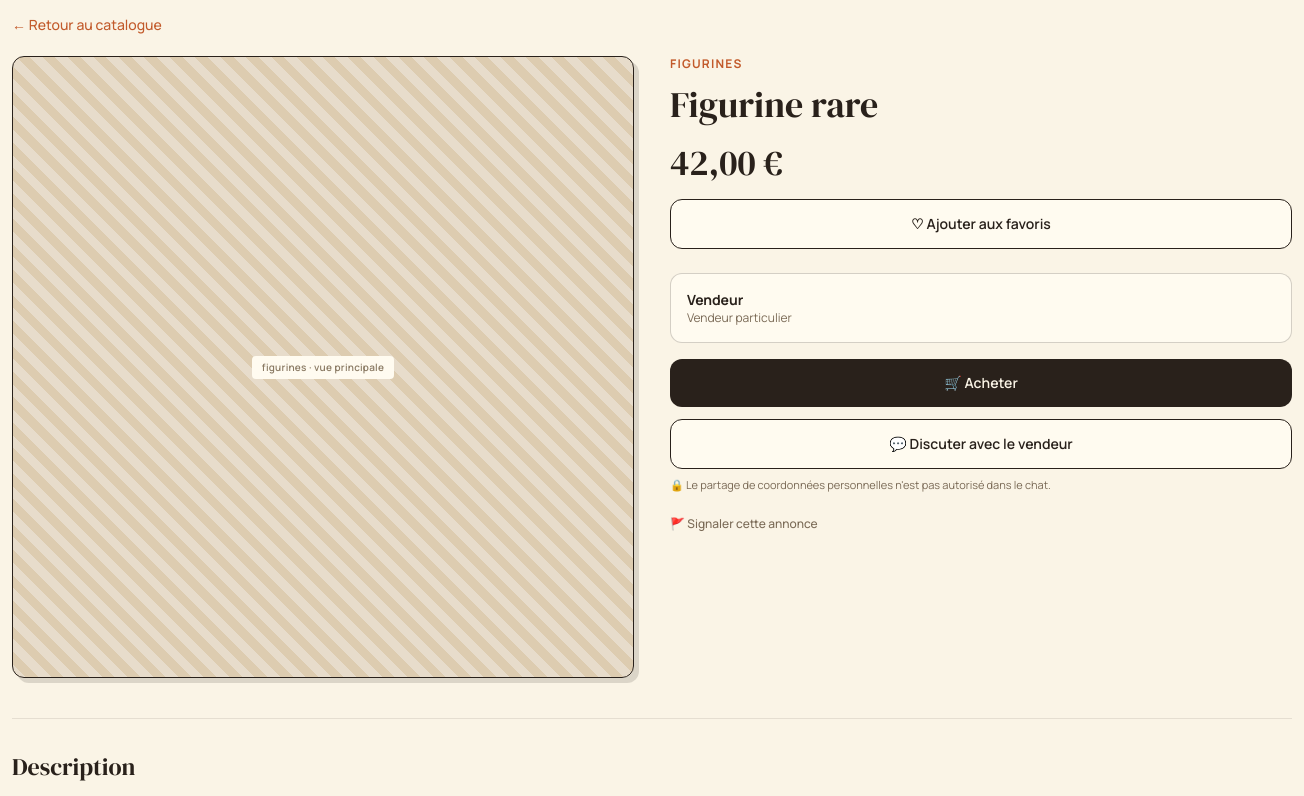
Test: ListingDetailPage › shows an error message when starting the conversation fails
Click the button "💬 Discuter avec le vendeur" at (981, 444), box [670, 419, 1292, 469]
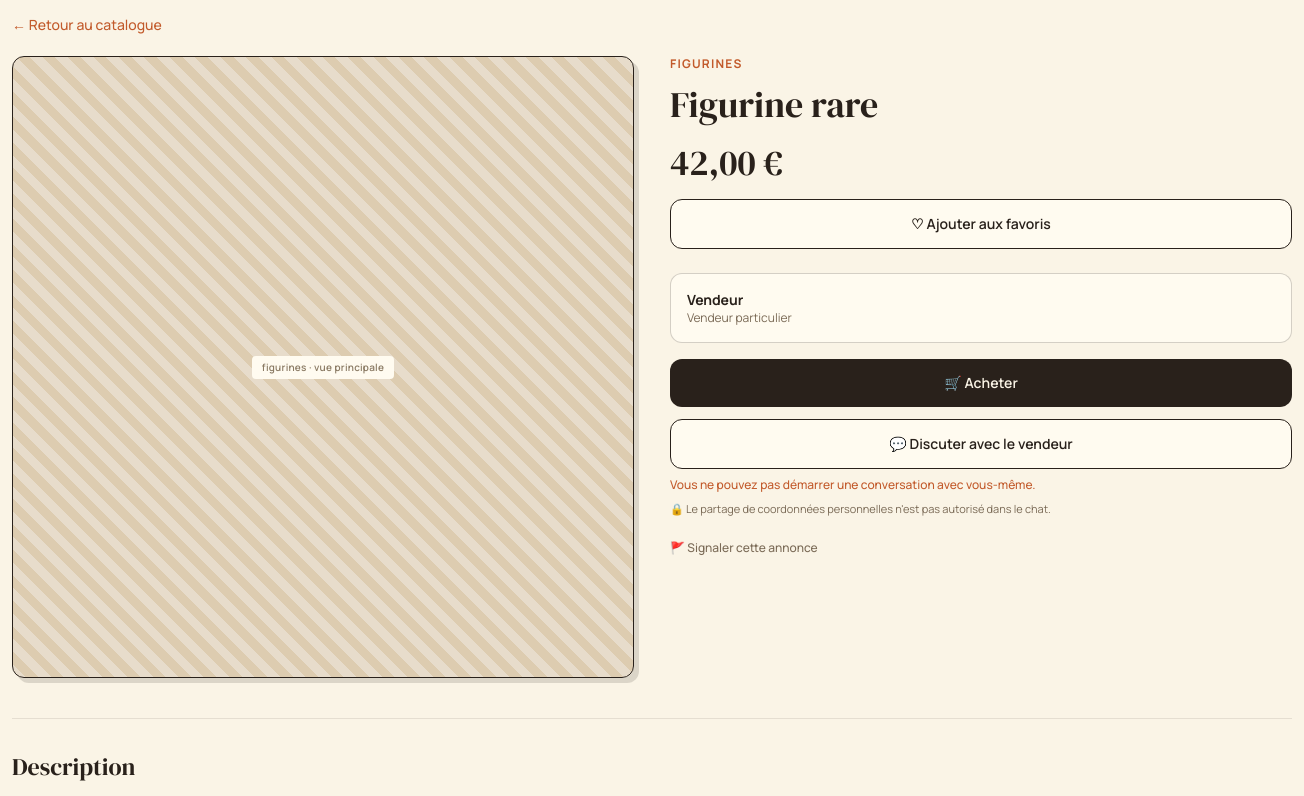
Result: the text "Vous ne pouvez pas démarrer une conversation avec vous-même." is shown at [670, 476, 1036, 493]
